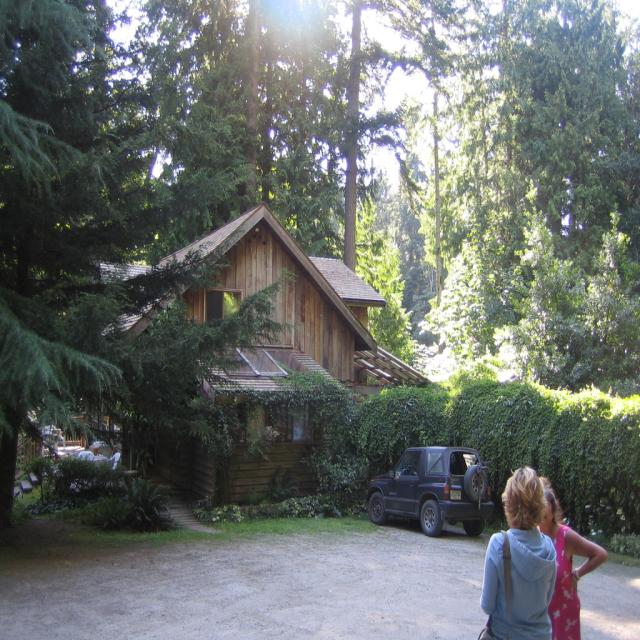car: (370, 447, 495, 541)
